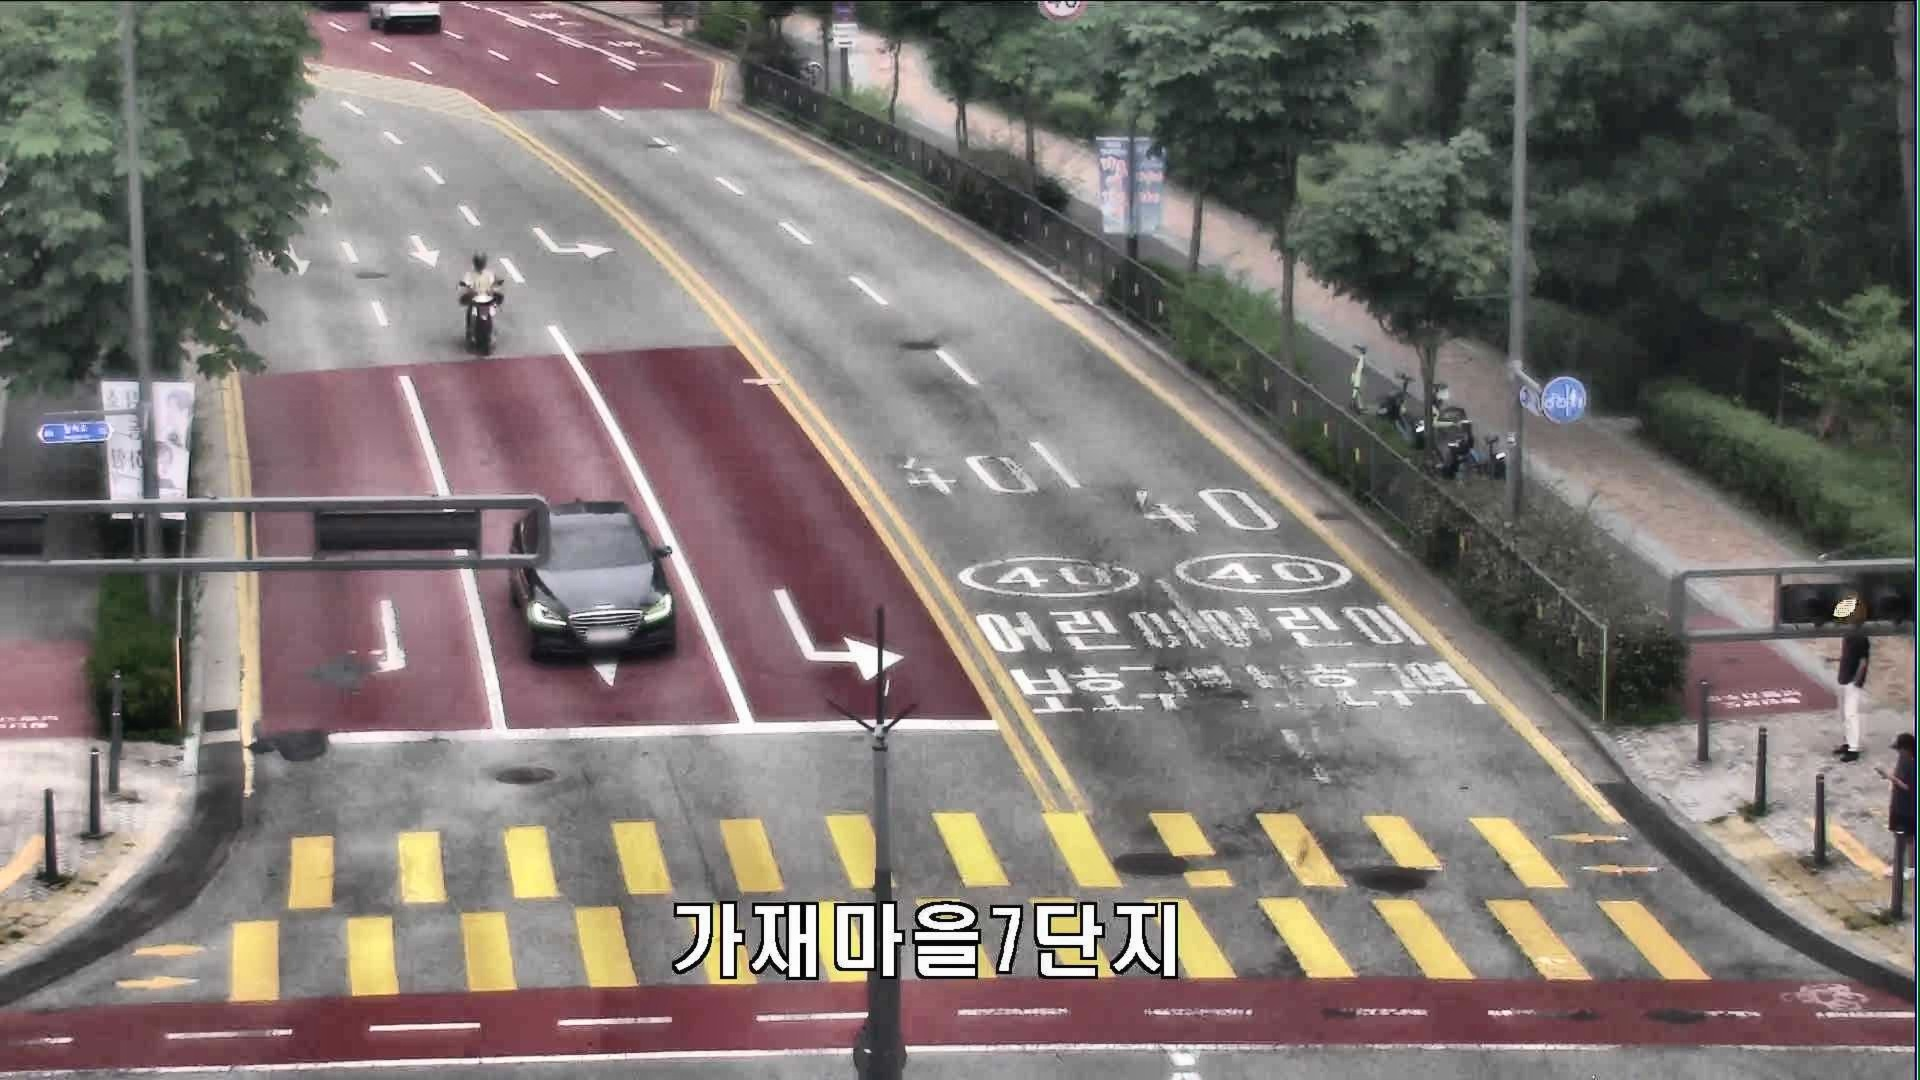sidewalk: (1820, 601, 1873, 765), (1866, 731, 1920, 880)
